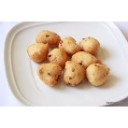bonda: (37, 62, 62, 85), (64, 60, 85, 86), (88, 63, 110, 87), (37, 29, 60, 47), (74, 51, 98, 67), (28, 44, 48, 63), (59, 36, 81, 53), (80, 36, 100, 54), (48, 49, 67, 62)
